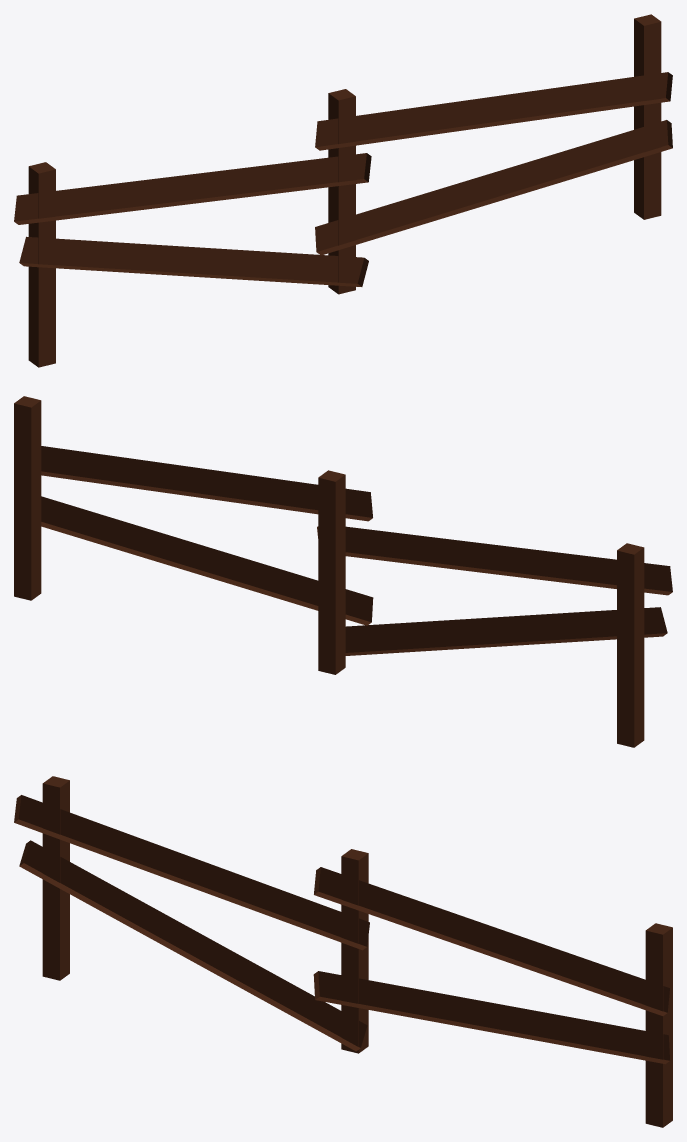
Rendered from Doublefence.fbx.
The picture shows the model from 3 angles, top to bottom: view 1: azimuth 30°, elevation 25°; view 2: azimuth 150°, elevation 25°; view 3: azimuth 330°, elevation 25°; orthographic projection.
Parts seen in each view (by area): view 1: Doublefence; view 2: Doublefence; view 3: Doublefence.
Part boxes in pixels (x1,y1,x2,y2): Doublefence: [14, 14, 672, 367]; Doublefence: [14, 396, 672, 747]; Doublefence: [14, 776, 672, 1127].
Bounding box in the file's own units: 430 × 122 × 16.55.
